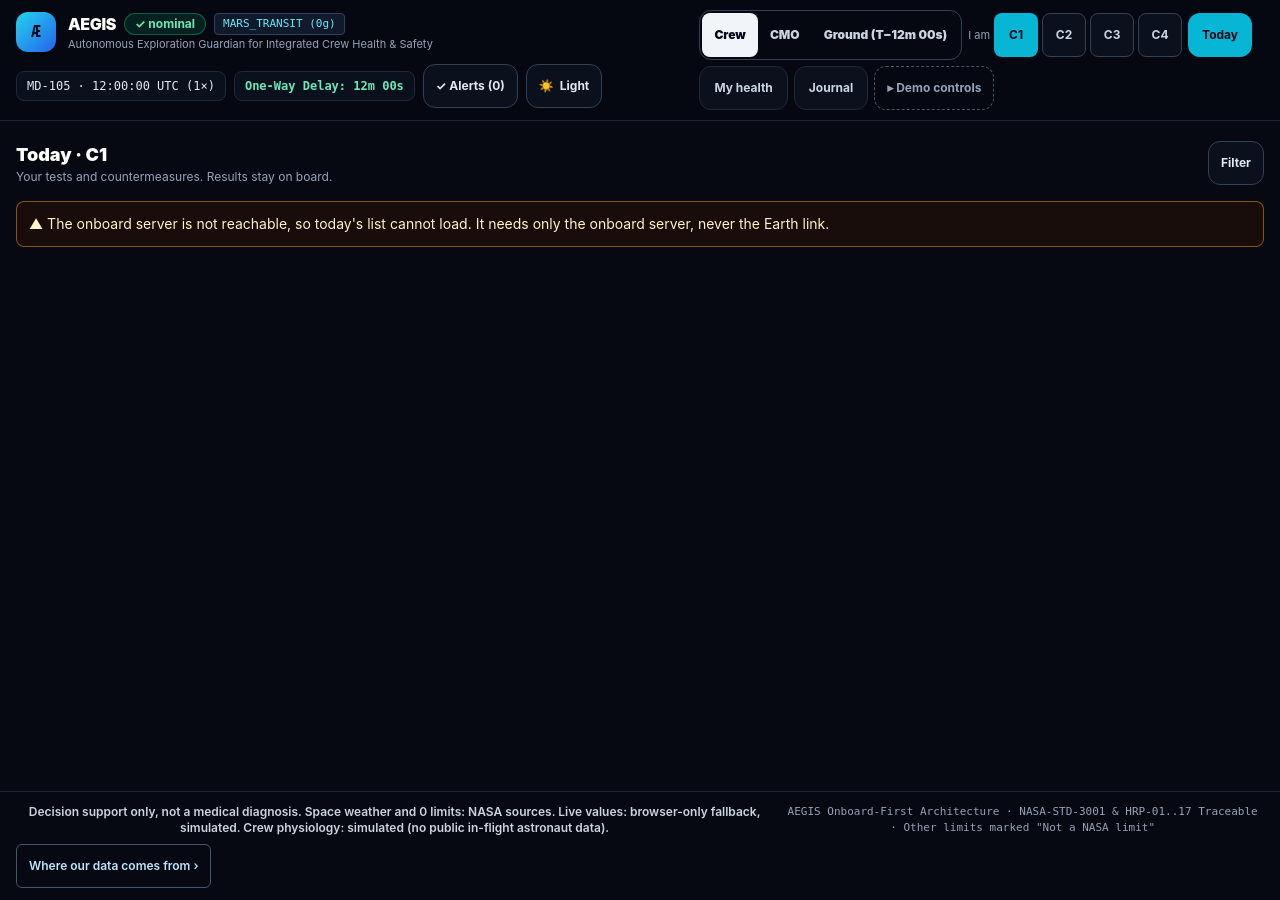
S-1 roles › demo controls are closed by default and open with one tap
Click the button with test id "demo-controls-toggle" at (934, 88), box [874, 66, 994, 110]
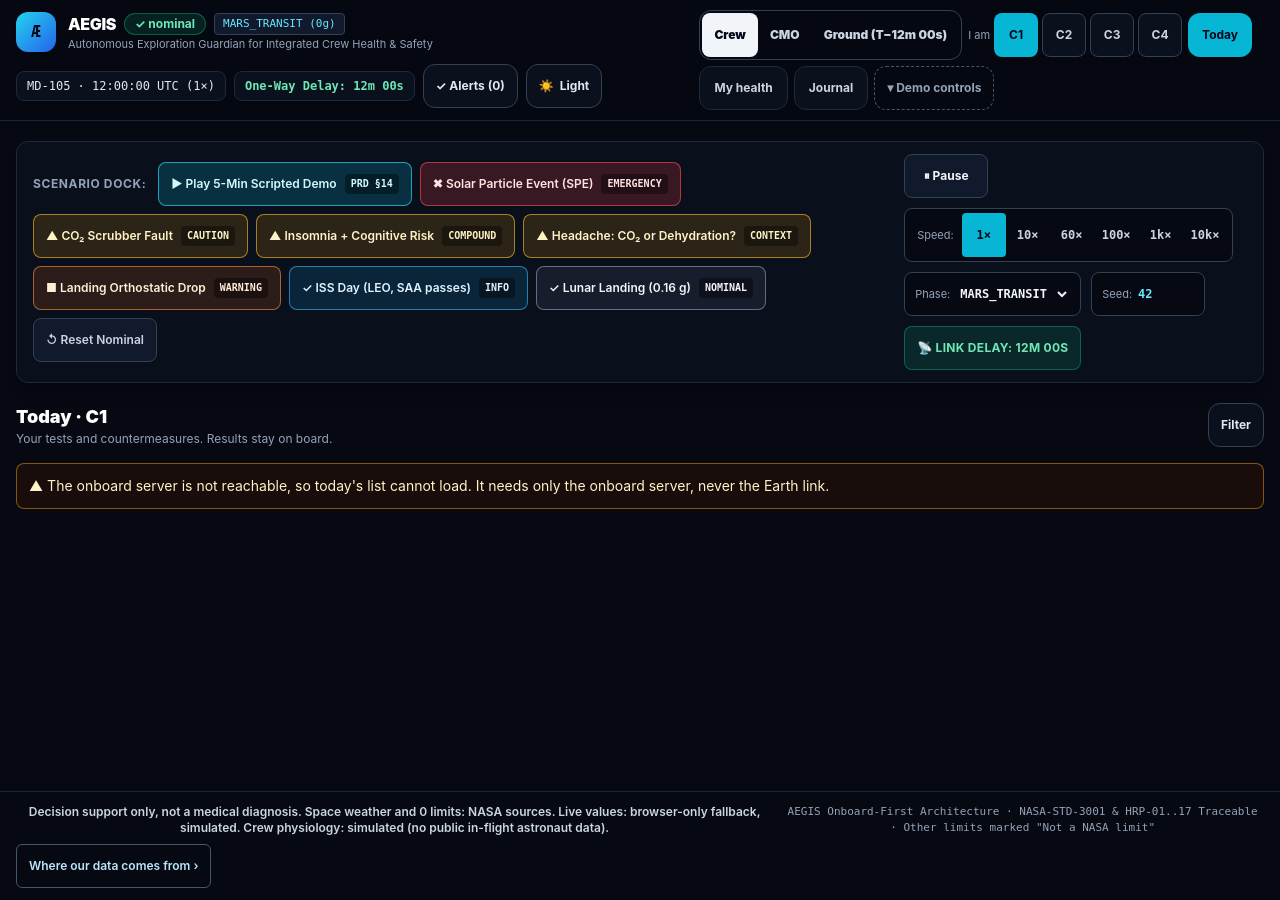
Check: the element with test id "scenario-dock" is shown, box [16, 141, 1264, 383]
